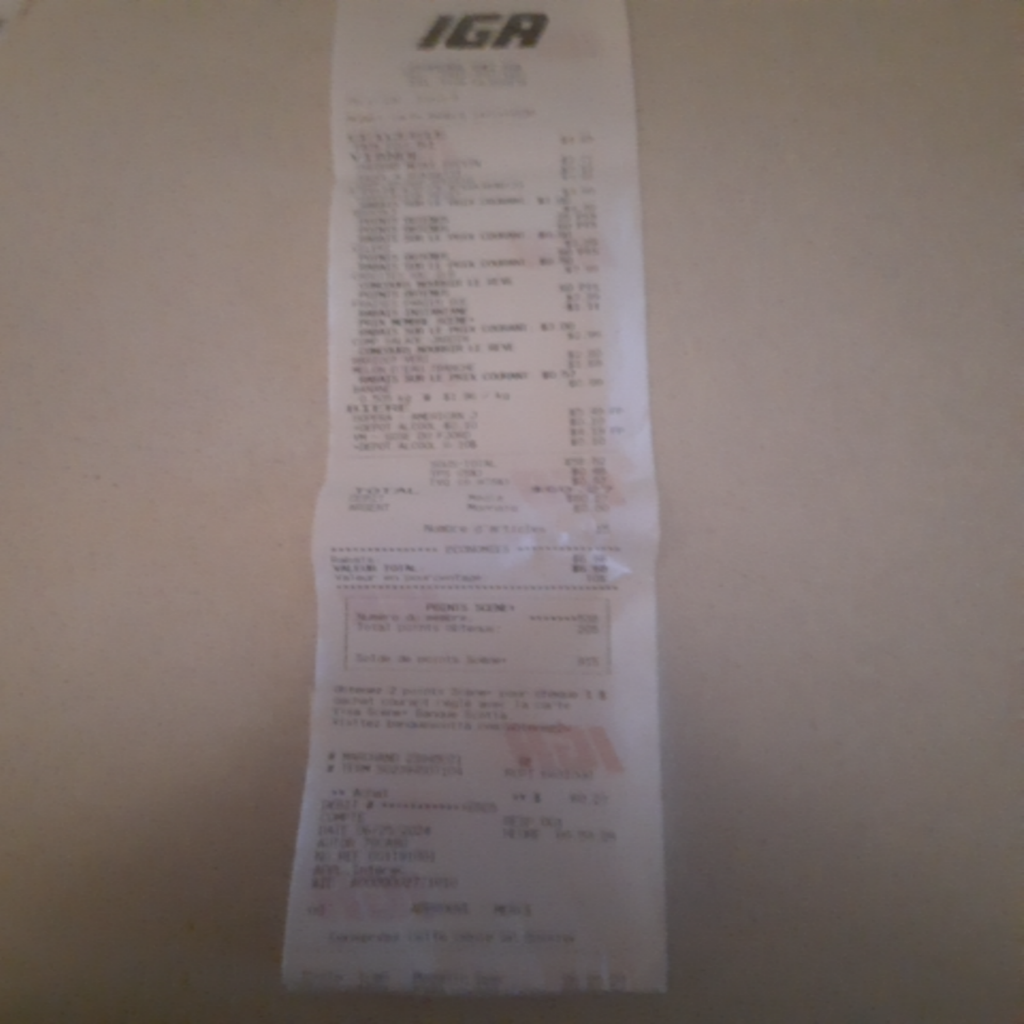recipt: (287, 0, 663, 993)
